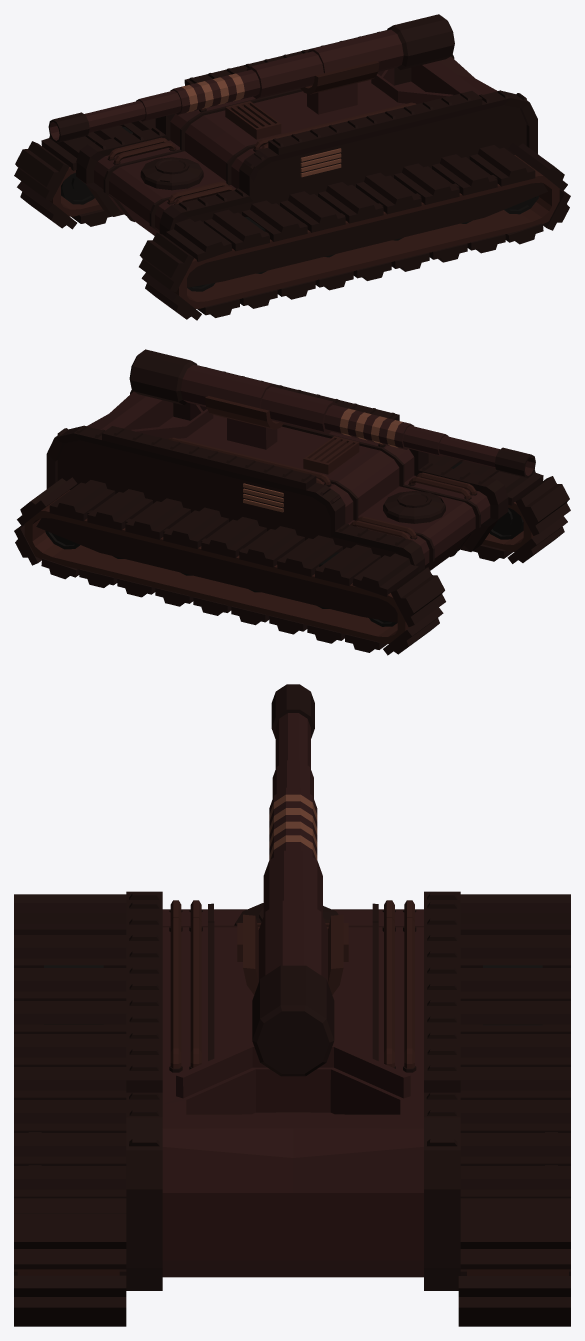
File: Tank4.obj
The picture shows the model from 3 angles, top to bottom: view 1: azimuth 30°, elevation 25°; view 2: azimuth 150°, elevation 25°; view 3: azimuth 270°, elevation 25°; orthographic projection. The views are drawn at different scales.
Visible parts, largest first — view 1: Tank_body.001_Cube.001, TrackMesh.L_Cube.051, Tank_Gun_Cylinder.002, TrackMesh.R_Cube.000, Tank_Turret_Cylinder.001; view 2: Tank_body.001_Cube.001, TrackMesh.R_Cube.000, Tank_Gun_Cylinder.002, TrackMesh.L_Cube.051, Tank_Turret_Cylinder.001; view 3: Tank_body.001_Cube.001, TrackMesh.L_Cube.051, TrackMesh.R_Cube.000, Tank_Gun_Cylinder.002, Tank_Turret_Cylinder.001.
Boxes of the visible parts, x1=… form: Tank_body.001_Cube.001: x1=49, y1=30, x2=559, y2=308; TrackMesh.L_Cube.051: x1=139, y1=142, x2=570, y2=320; Tank_Gun_Cylinder.002: x1=48, y1=14, x2=454, y2=142; TrackMesh.R_Cube.000: x1=14, y1=118, x2=155, y2=229; Tank_Turret_Cylinder.001: x1=300, y1=60, x2=379, y2=114; Tank_body.001_Cube.001: x1=24, y1=365, x2=535, y2=643; TrackMesh.R_Cube.000: x1=14, y1=477, x2=445, y2=655; Tank_Gun_Cylinder.002: x1=129, y1=349, x2=535, y2=478; TrackMesh.L_Cube.051: x1=428, y1=453, x2=570, y2=563; Tank_Turret_Cylinder.001: x1=205, y1=396, x2=283, y2=449; Tank_body.001_Cube.001: x1=17, y1=891, x2=568, y2=1290; TrackMesh.L_Cube.051: x1=14, y1=894, x2=126, y2=1326; TrackMesh.R_Cube.000: x1=458, y1=894, x2=570, y2=1326; Tank_Gun_Cylinder.002: x1=252, y1=684, x2=334, y2=1076; Tank_Turret_Cylinder.001: x1=243, y1=914, x2=343, y2=994.
Size of the model in its own units: 16.16 by 6 by 9.98.
